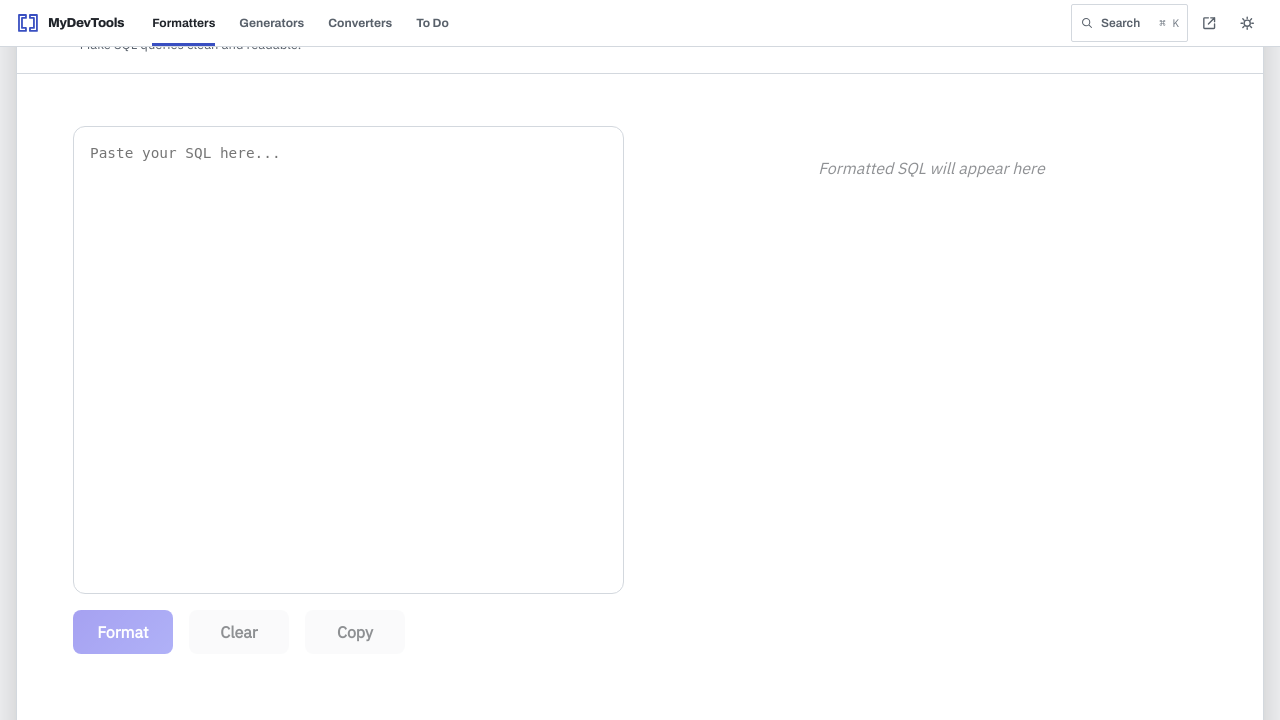
SQL Formatter Component › clears input and output
The width and height of the screenshot is (1280, 720).
(page scrolled)
Type "select * from users where id = 1;" into the text box with test id "sql-input".
click(349, 360); type("select * from users where id = 1;")  # box 73,126 -> 624,594
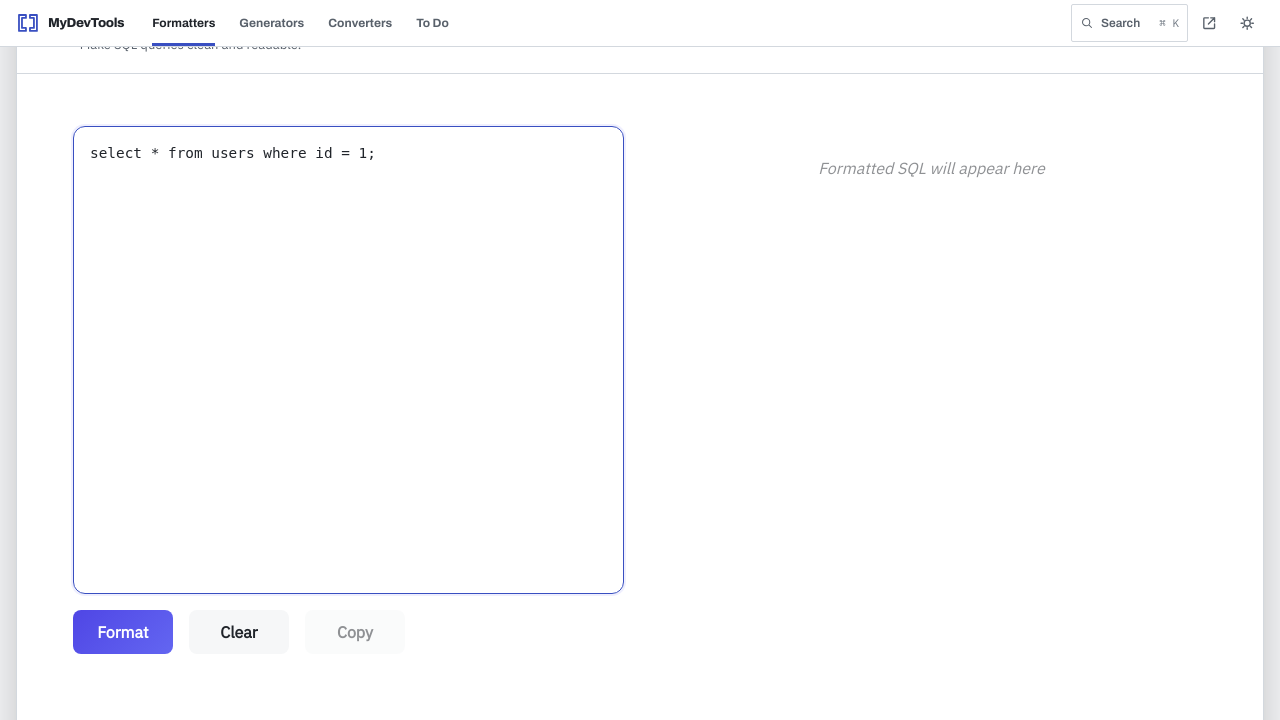
Click the button with test id "format-btn".
click(123, 632)  # box 73,610 -> 173,654
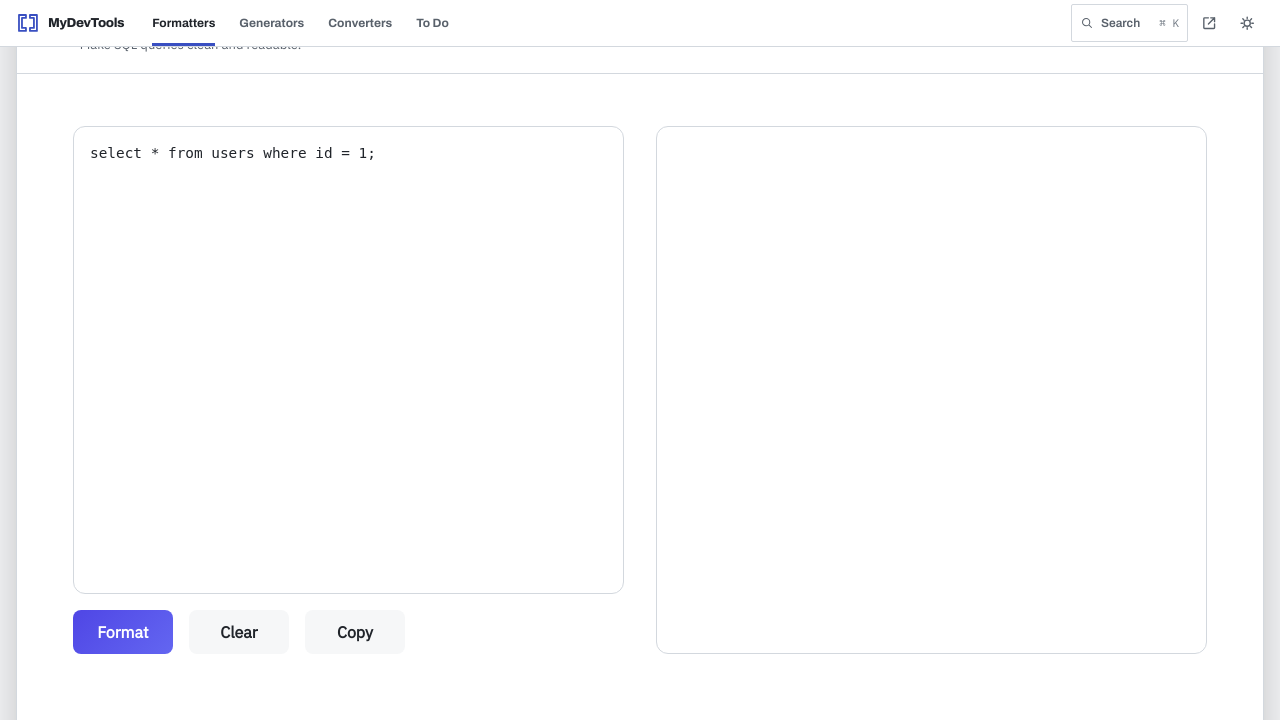
Click the button with test id "clear-btn".
click(239, 632)  # box 189,610 -> 289,654
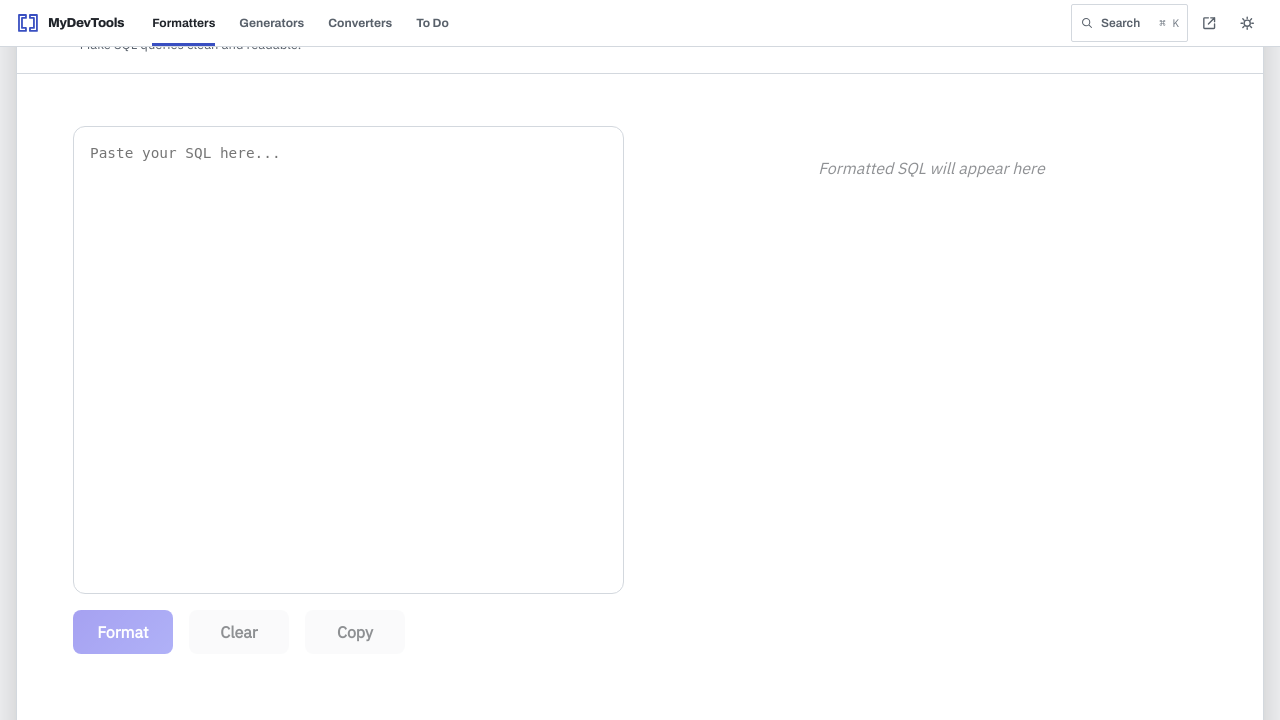
Expected: the element with test id "sql-output" is gone
Expected: the text "Formatted SQL will appear here" is shown, 818,158 -> 1045,178
